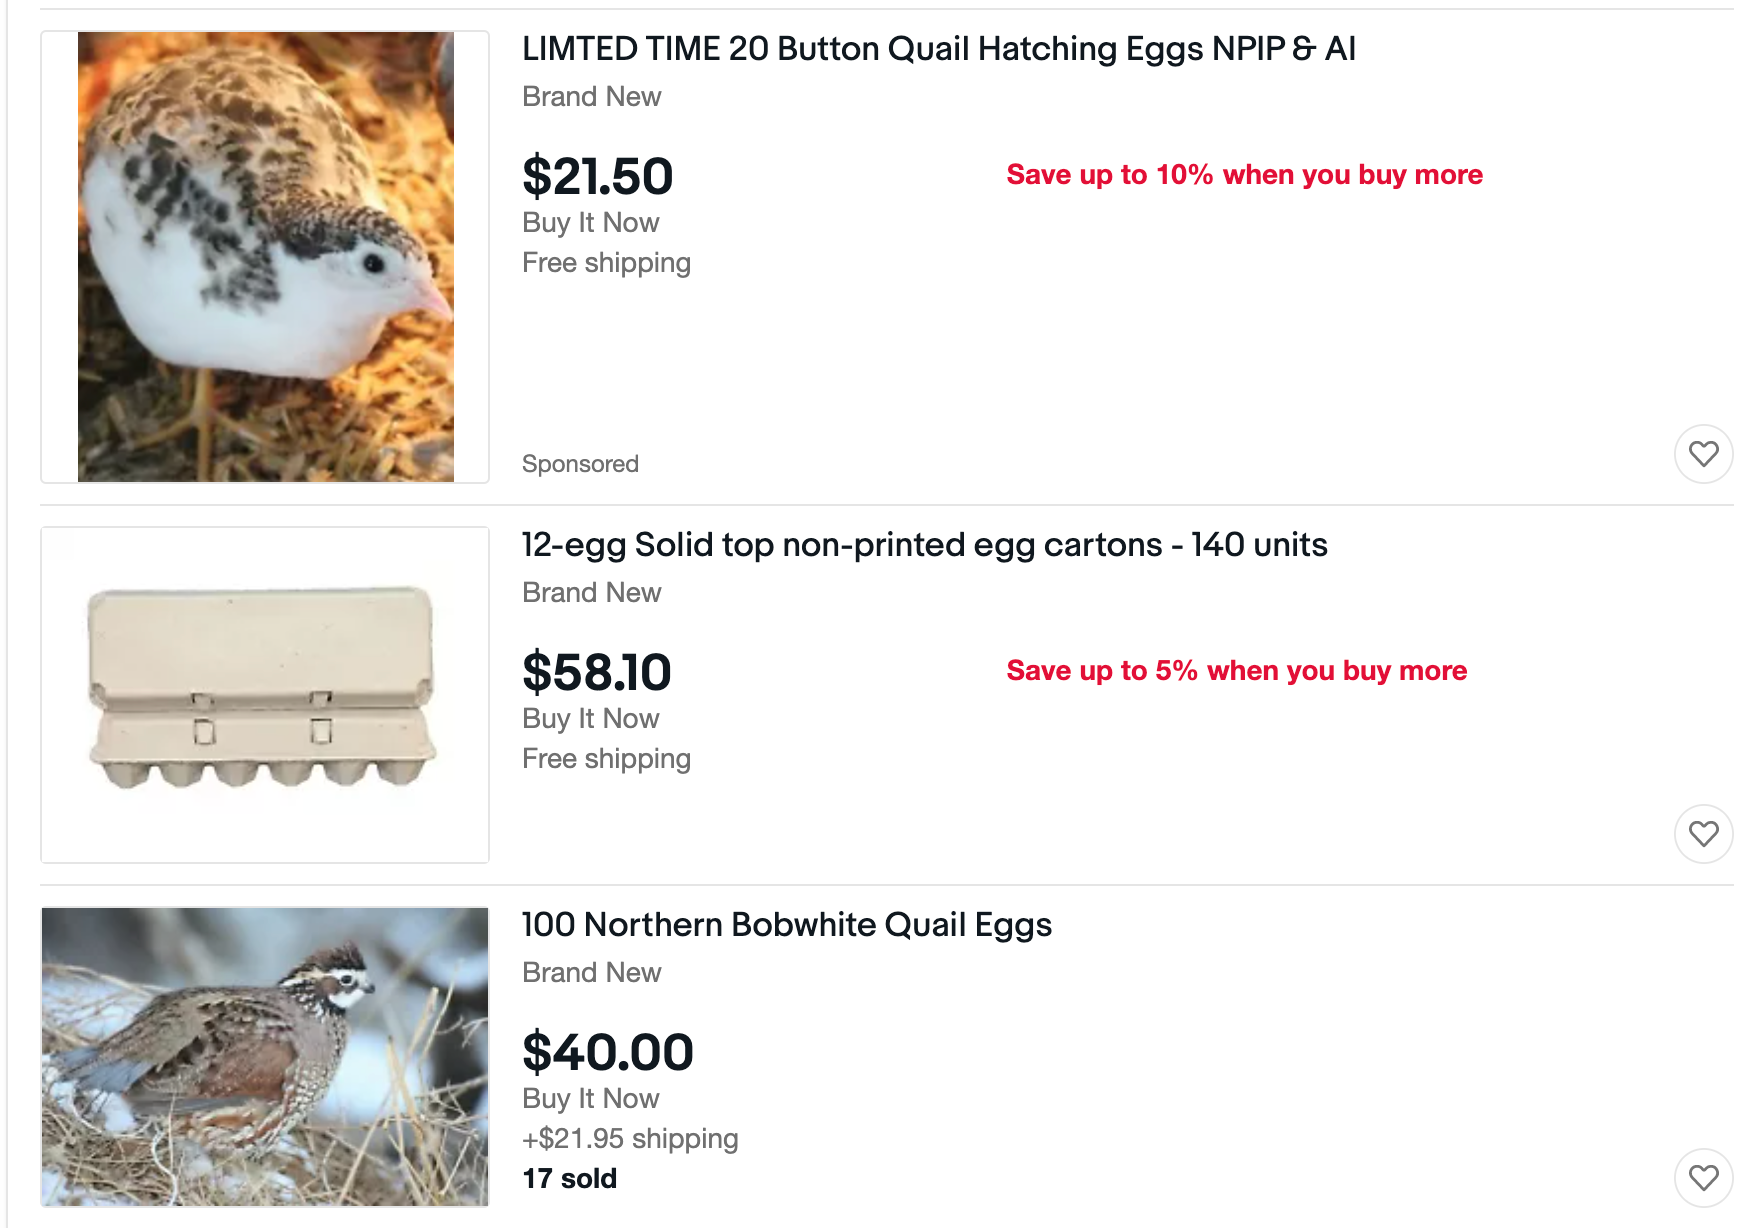Product: (35, 9, 1758, 514), (19, 501, 1758, 889), (9, 883, 1757, 1228)
Product Image: (37, 7, 489, 494), (24, 505, 500, 877), (19, 889, 504, 1228)
Product Name: (502, 890, 1758, 955), (513, 510, 1750, 575), (516, 20, 1750, 79)
Product Price: (502, 118, 791, 204), (506, 1004, 787, 1088), (504, 617, 749, 703)
